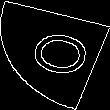O_E: (16, 26, 94, 84)
